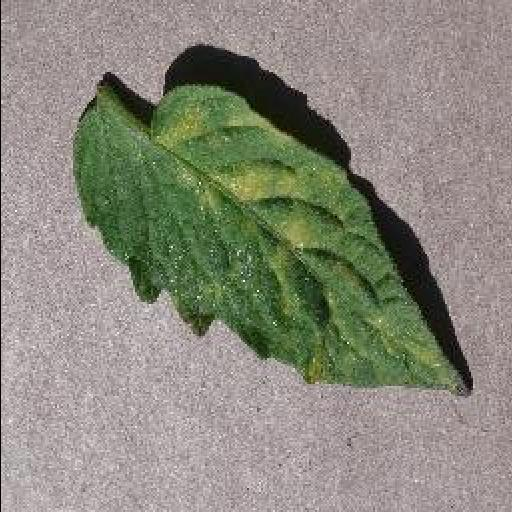disease_tomato: (70, 84, 474, 390)
